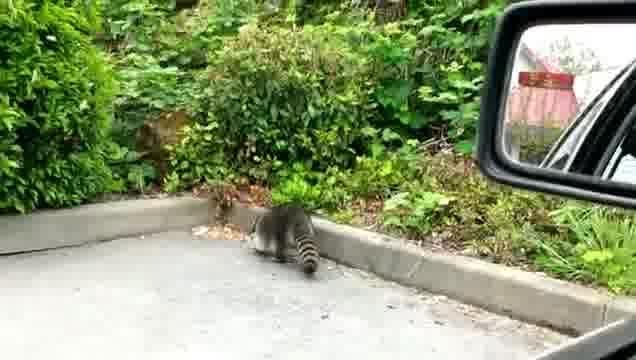raccoon: (246, 204, 327, 279)
